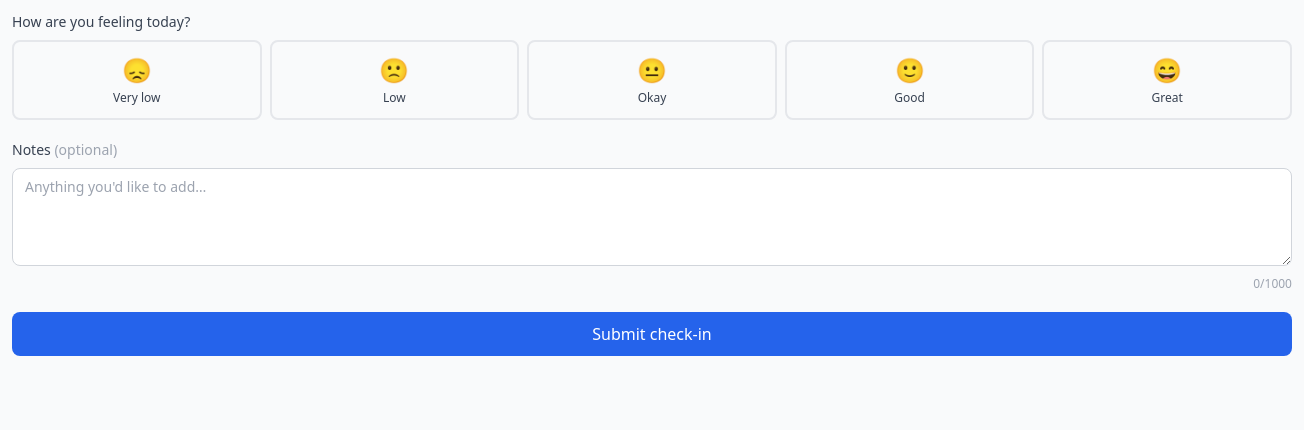
Test: CheckInForm › blocks submission and shows an error until a mood is chosen
The image size is (1304, 430).
Step 1. Click the button "Submit check-in" → (652,334), box [12,312,1292,356]
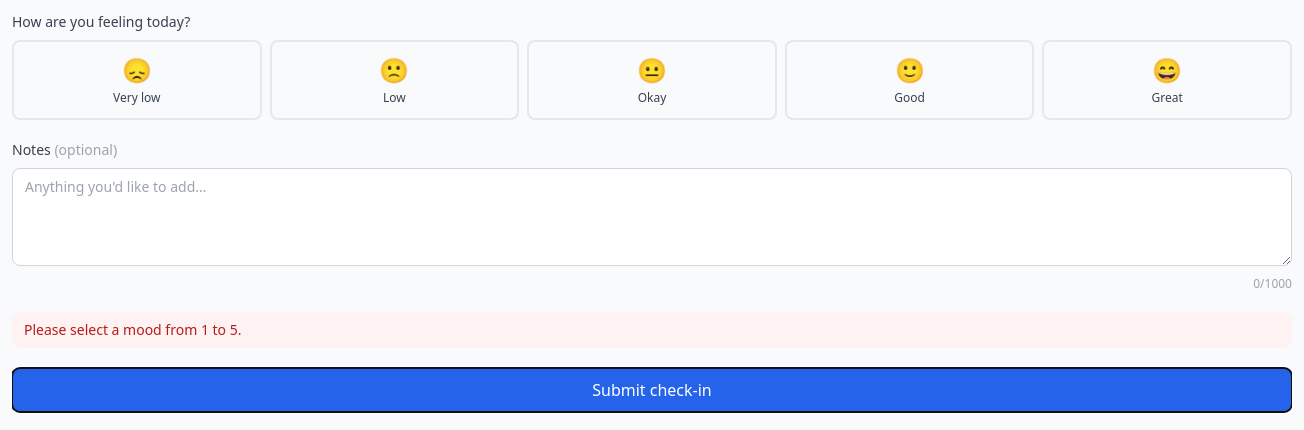
Check: the message shows "select a mood", box [24,320,242,339]
